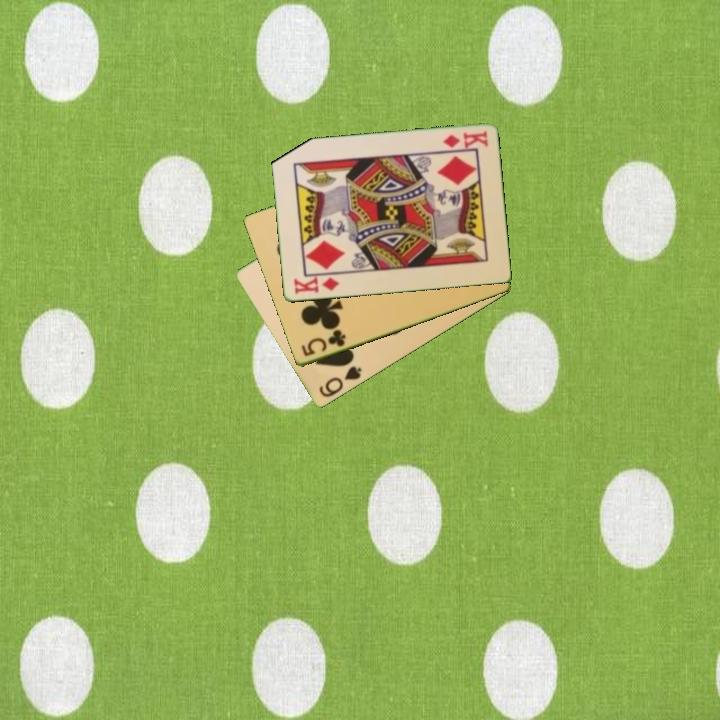5c: (297, 326, 349, 360)
6s: (315, 363, 365, 401)
Kd: (290, 274, 342, 297), (439, 128, 490, 151)
